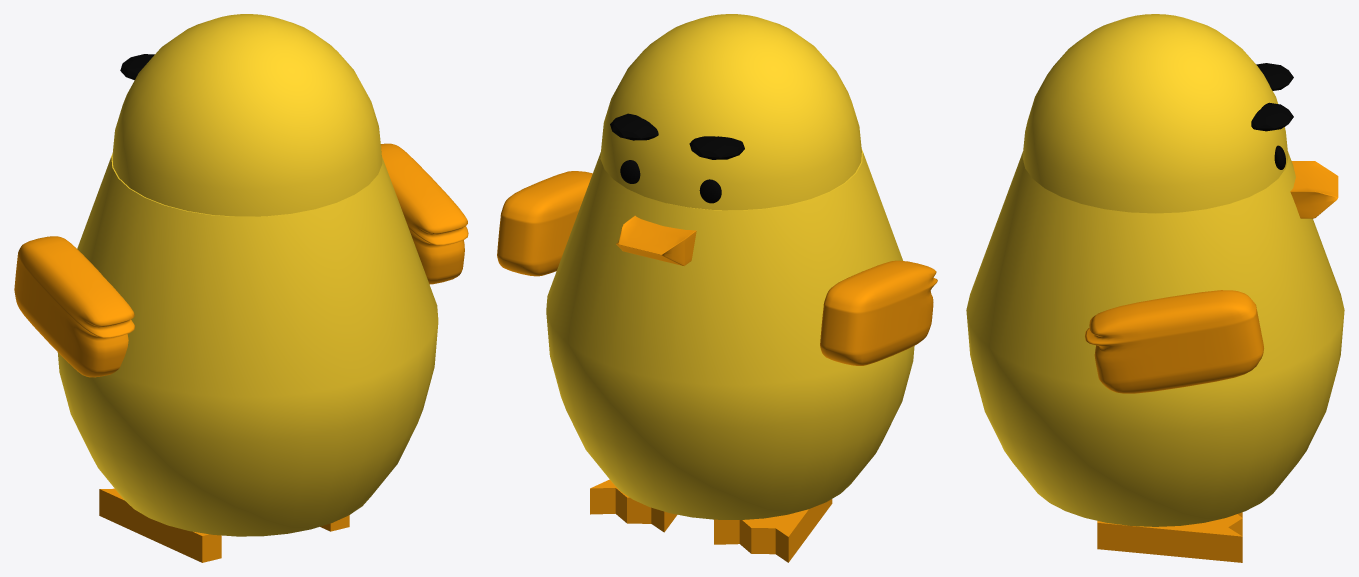
The model's file is duck_1.fbx.
3 renders of one model, left to right at view 1: azimuth 30°, elevation 25°; view 2: azimuth 150°, elevation 25°; view 3: azimuth 270°, elevation 25°, orthographic. The views are drawn at different scales.
Visible parts, largest first — view 1: body, head, wing_l, wing_r, foot_l; view 2: body, head, wing_l, wing_r, foot_l, beak, foot_r, eyebrow_l, eyebrow_r; view 3: body, head, wing_r, foot_r, beak, eyebrow_r, eyebrow_l.
Part boxes in pixels (left/top/right/bottom): body: left=57, top=153, right=438, bottom=536; head: left=112, top=14, right=382, bottom=216; wing_l: left=14, top=236, right=134, bottom=377; wing_r: left=381, top=143, right=468, bottom=284; foot_l: left=99, top=488, right=221, bottom=562; body: left=546, top=149, right=914, bottom=519; head: left=600, top=14, right=861, bottom=210; wing_l: left=820, top=260, right=937, bottom=365; wing_r: left=497, top=171, right=592, bottom=276; foot_l: left=714, top=499, right=832, bottom=562; beak: left=616, top=215, right=696, bottom=265; foot_r: left=590, top=479, right=677, bottom=532; eyebrow_l: left=689, top=136, right=744, bottom=159; eyebrow_r: left=610, top=113, right=658, bottom=140; body: left=966, top=152, right=1344, bottom=526; head: left=1022, top=14, right=1288, bottom=213; wing_r: left=1085, top=290, right=1263, bottom=393; foot_r: left=1097, top=512, right=1242, bottom=562; beak: left=1290, top=161, right=1338, bottom=218; eyebrow_r: left=1251, top=102, right=1293, bottom=131; eyebrow_l: left=1256, top=63, right=1293, bottom=90.
Bounding box in the file's own units: 1501 × 1854 × 1300.
